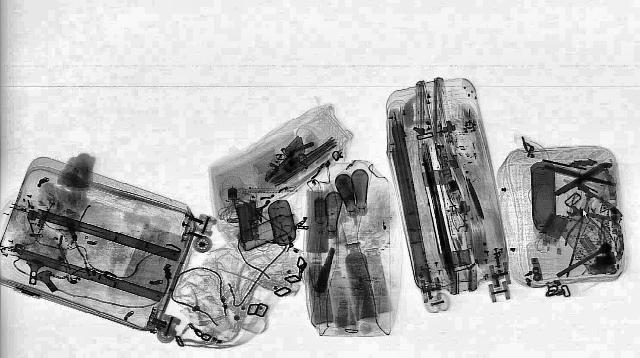Wrench: (564, 204, 614, 221)
